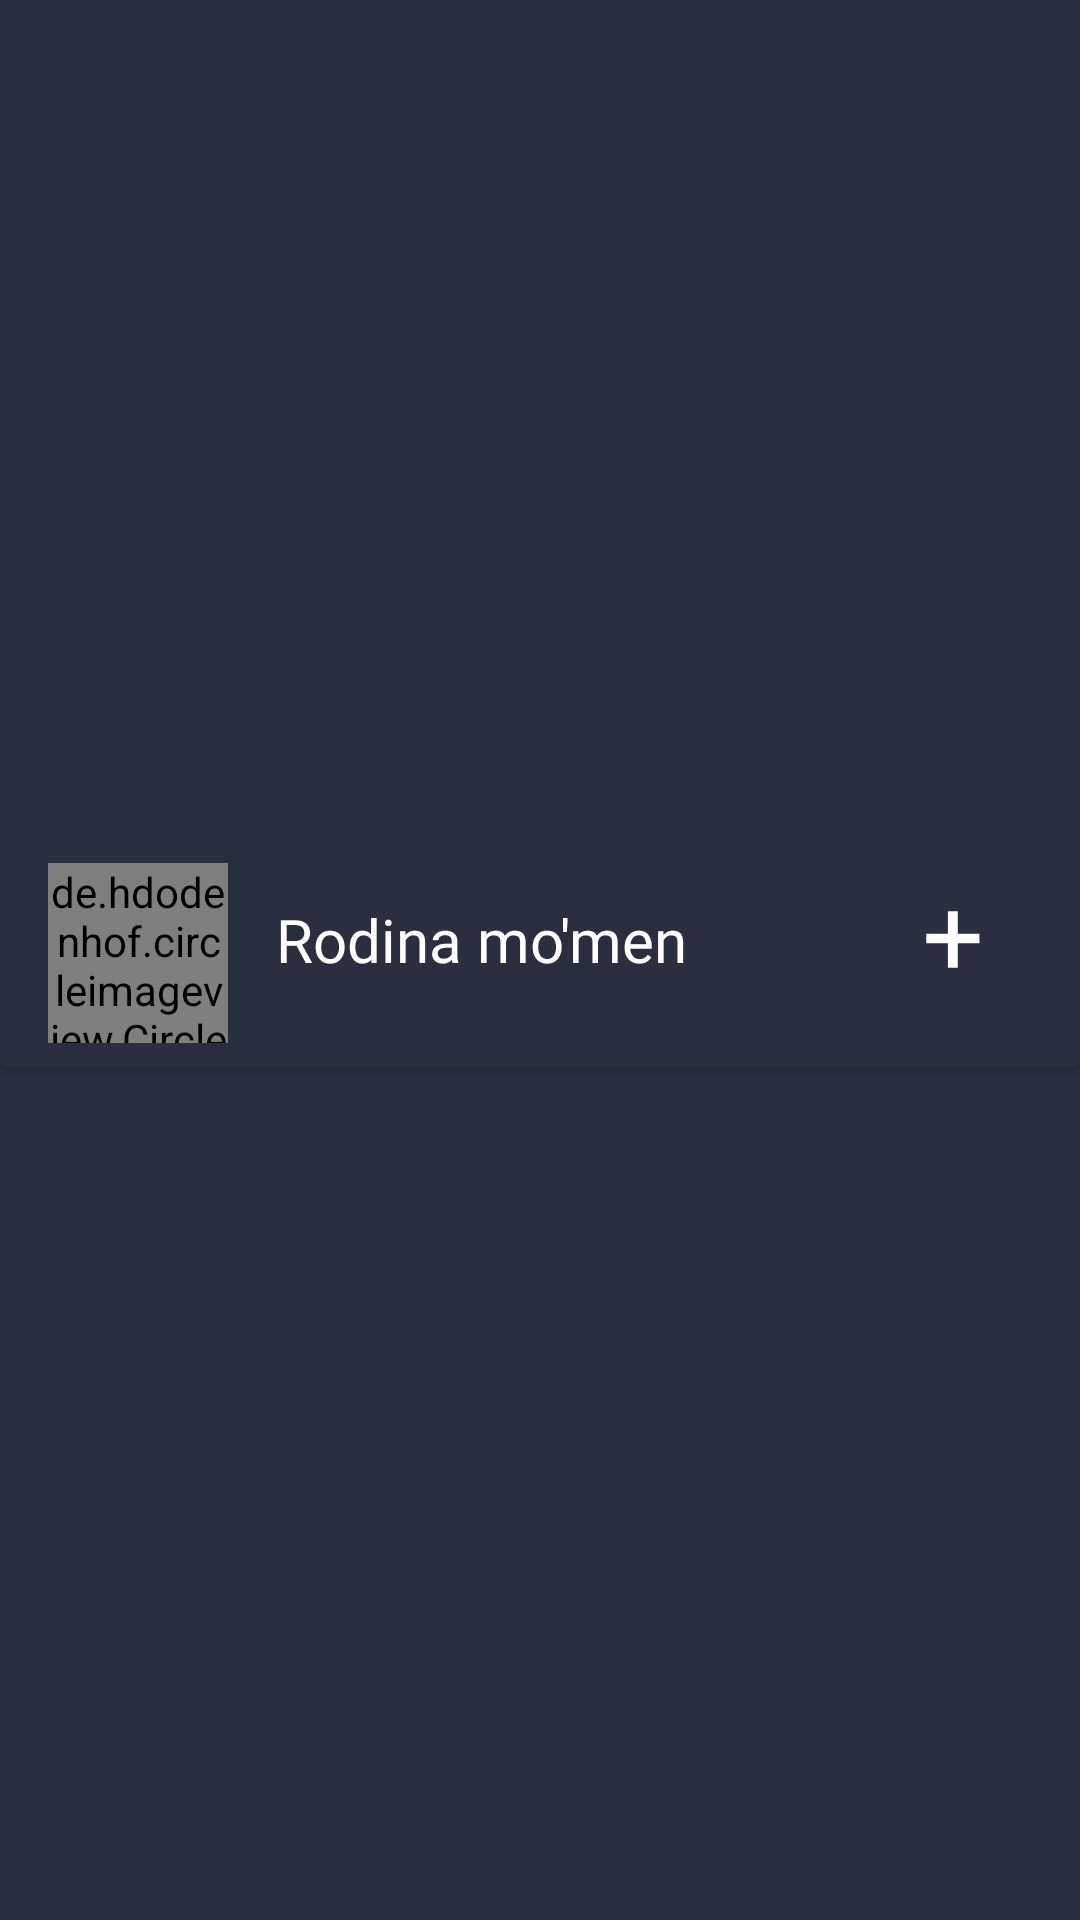

Icons on this 1080*1920 Android screen, each with its box as [x1=x1, y1=y1, x2=x2, y2=y2]:
plus: [x1=926, y1=911, x2=980, y2=968]
